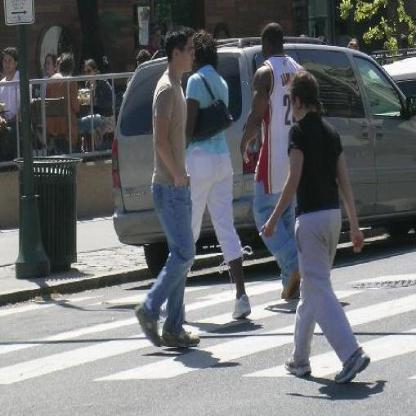person: (269, 76, 377, 387), (132, 25, 202, 355)
